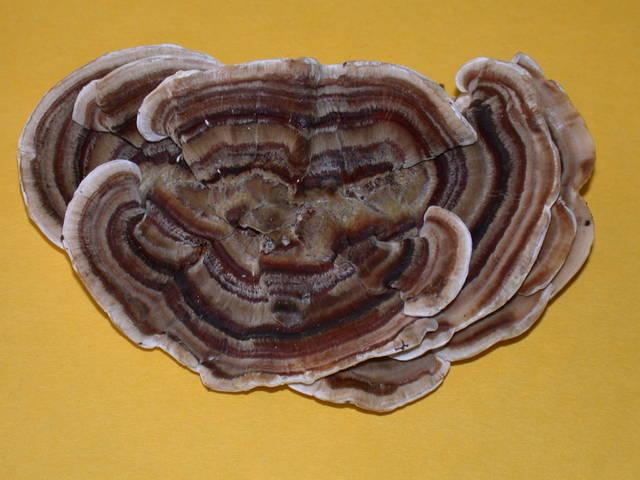Non-edible Mushroom: (16, 42, 597, 414)
